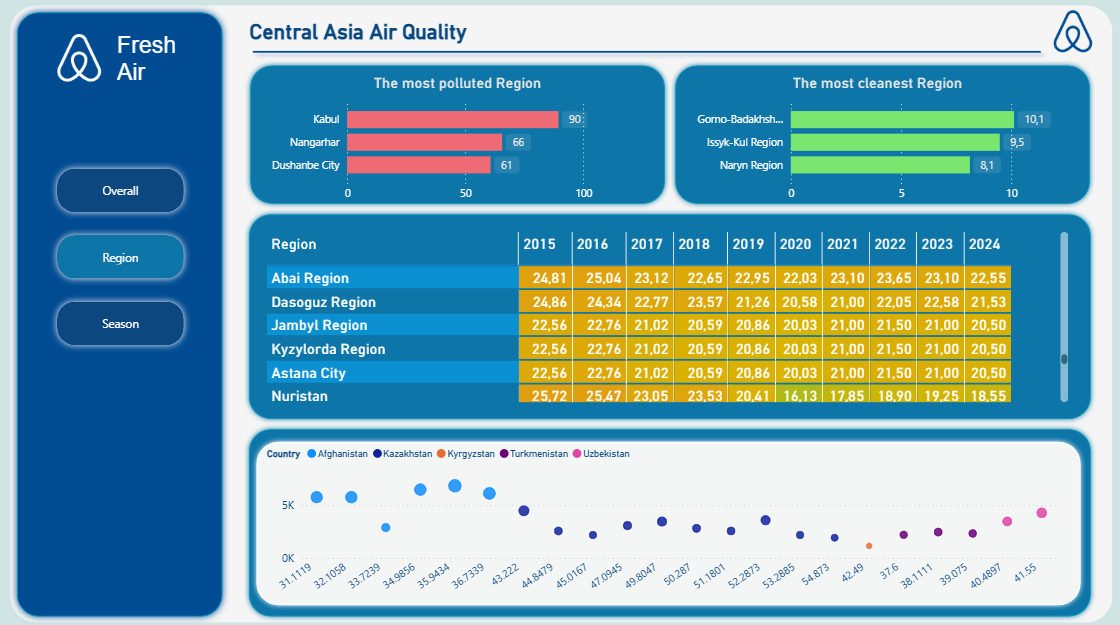

Layout of this report page (visuals, bound fields, positions):
{"tool":"powerbi","page":{"name":"Region","canvas":[1280,720],"ordinal":1},"visuals":[{"type":"shape","box":[11.4,6.4,1260,705.7],"z":0},{"type":"shape","box":[10.8,6.7,250.8,706.7],"z":1000},{"type":"image","box":[53.3,40,75.3,54.7],"z":2000},{"type":"shape","box":[278,240,974,246],"z":3000},{"type":"textbox","box":[128.7,32.7,86.7,73.3],"z":4000},{"type":"shape","box":[280,33.3,918.3,55],"z":5000},{"type":"shape","box":[280,70,485.7,170],"z":6000},{"type":"shape","box":[765.7,70,485.7,170],"z":7000},{"type":"clusteredBarChart","title":"The most polluted Region","fields":{"Category":["central_asia_air.Region"],"Y":["Avg(central_asia_air.PM25_ug_m3)"]},"box":[300,85.7,445.7,154.3],"z":8000},{"type":"clusteredBarChart","title":"The most cleanest Region","fields":{"Category":["central_asia_air.Region"],"Y":["Avg(central_asia_air.PM25_ug_m3)"]},"box":[780,85.7,445.7,154.3],"z":9000},{"type":"pivotTable","fields":{"Rows":["central_asia_air.Region"],"Columns":["central_asia_air.Year"],"Values":["Avg(central_asia_air.PM25_ug_m3)"]},"box":[300,262,926,204],"z":10000},{"type":"shape","box":[278,486,974,226],"z":11000},{"type":"shape","box":[287.5,500,953.8,198.8],"z":12000},{"type":"scatterChart","fields":{"X":["central_asia_air.Latitude"],"Y":["Sum(central_asia_air.PM25_ug_m3)"],"Size":["Avg(central_asia_air.Times_Above_WHO)"],"Series":["central_asia_air.Country"]},"box":[300,500,912,190],"z":13000},{"type":"pageNavigator","box":[56.7,185,161.7,220],"z":14000},{"type":"textbox","box":[280,18.6,300,42.9],"z":15000},{"type":"image","box":[1188.3,13.3,75,48.3],"z":16000}]}

Visuals, with their boxes in screenshot pixels (x1, y1, x2, y2), scaled from the page's 1280x720 canvas onto the 1120x625 screenshot:
shape: 10/6/1112/618
shape: 9/6/229/619
image: 47/35/113/82
shape: 243/208/1096/422
textbox: 113/28/188/92
shape: 245/29/1049/77
shape: 245/61/670/208
shape: 670/61/1095/208
"The most polluted Region" clusteredBarChart: 262/74/652/208
"The most cleanest Region" clusteredBarChart: 682/74/1072/208
pivotTable - central_asia_air.Region x central_asia_air.Year: 262/227/1073/405
shape: 243/422/1096/618
shape: 252/434/1086/607
scatterChart - central_asia_air.Latitude x Sum(central_asia_air.PM25_ug_m3): 262/434/1060/599
pageNavigator: 50/161/191/352
textbox: 245/16/508/53
image: 1040/12/1105/53
